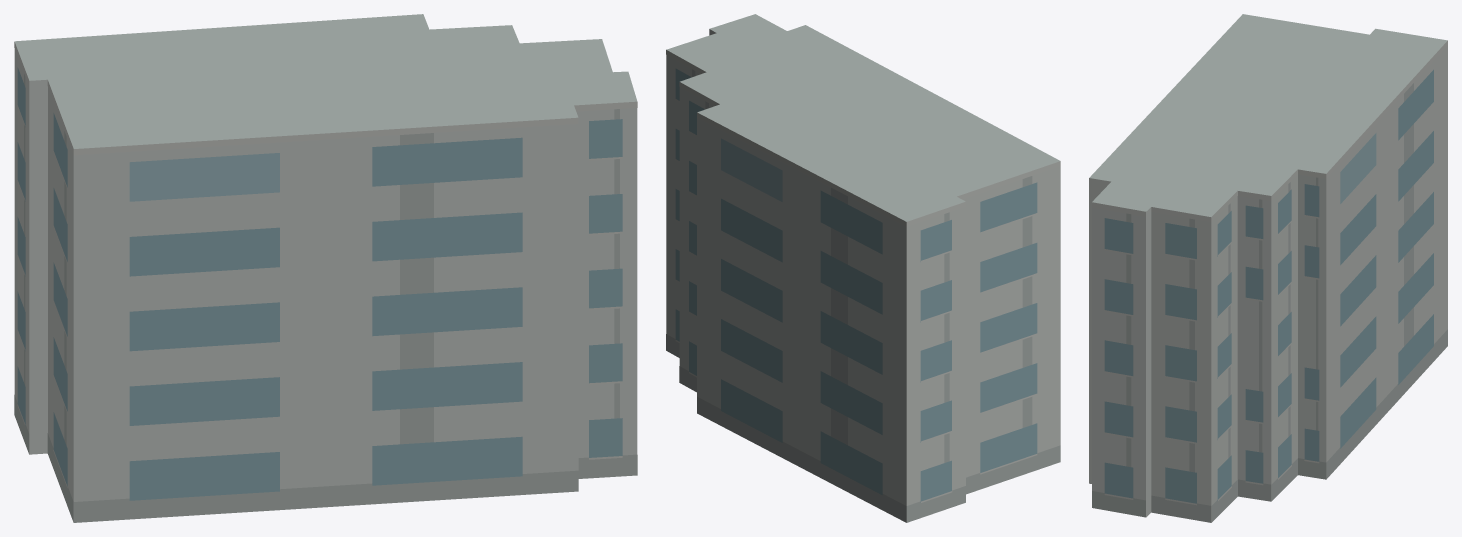
File: survey-upis-32634265.glb
The picture shows the model from 3 angles, left to right: view 1: azimuth 30°, elevation 25°; view 2: azimuth 150°, elevation 25°; view 3: azimuth 270°, elevation 25°; orthographic projection. The views are drawn at different scales.
Visible parts, largest first — view 1: survey-upis-32634265.tmp; view 2: survey-upis-32634265.tmp; view 3: survey-upis-32634265.tmp.
Boxes of the visible parts, x1=… form: survey-upis-32634265.tmp: x1=14, y1=14, x2=637, y2=522; survey-upis-32634265.tmp: x1=666, y1=14, x2=1060, y2=522; survey-upis-32634265.tmp: x1=1089, y1=14, x2=1447, y2=522.
Size of the model in its own units: 20.68 by 14.5 by 15.43.
